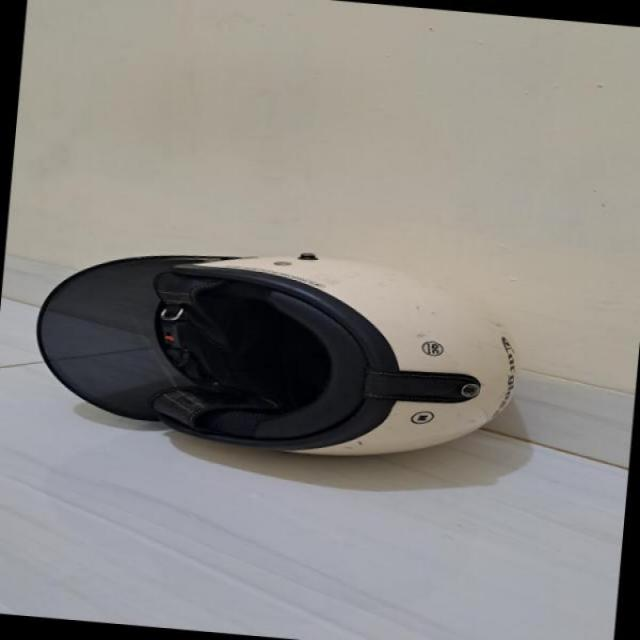Helmet: (29, 222, 531, 462)
